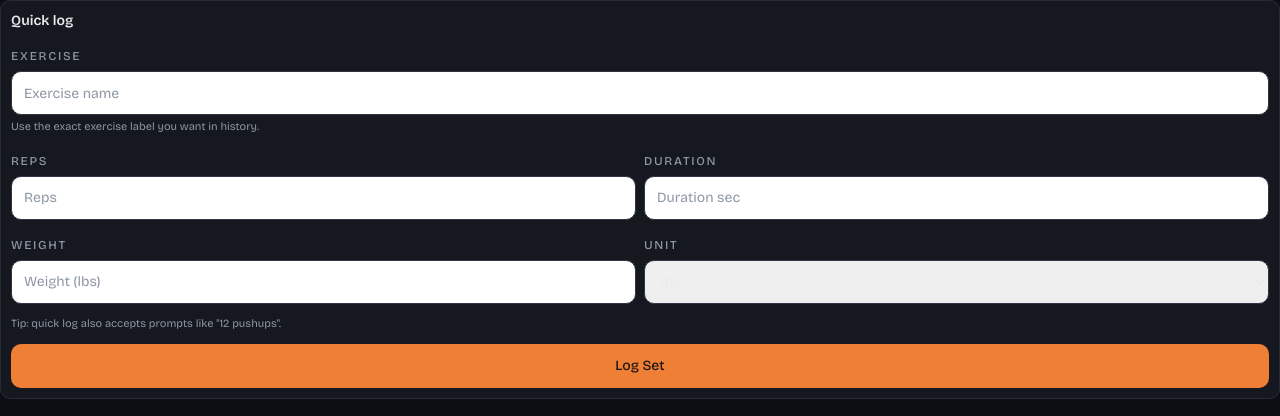
Test: QuickLogFormBlock › shows validation error when exercise is missing
The image size is (1280, 416).
Type "10" into the field labelled "Reps" at (324, 198), box [11,176,636,220]
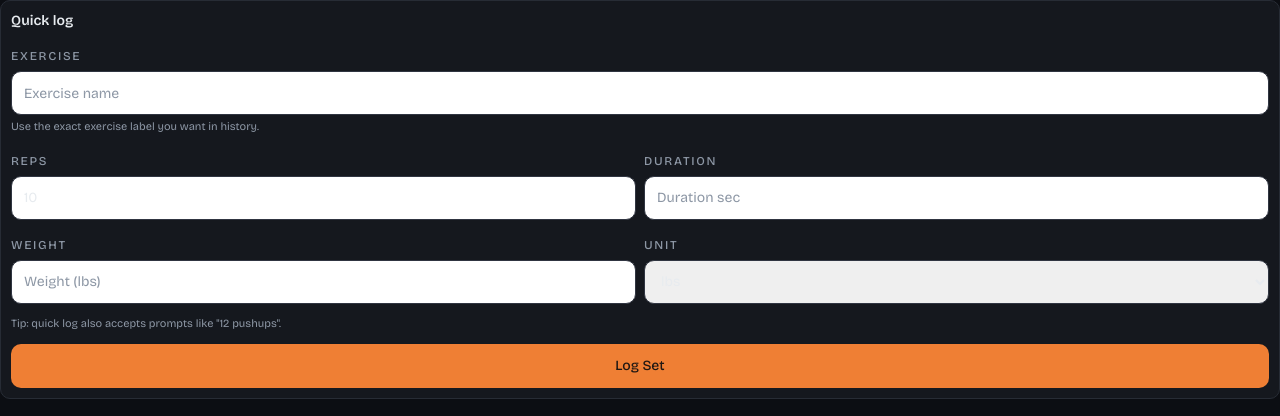
Click the button "Log Set" at (640, 366), box [11,344,1269,388]
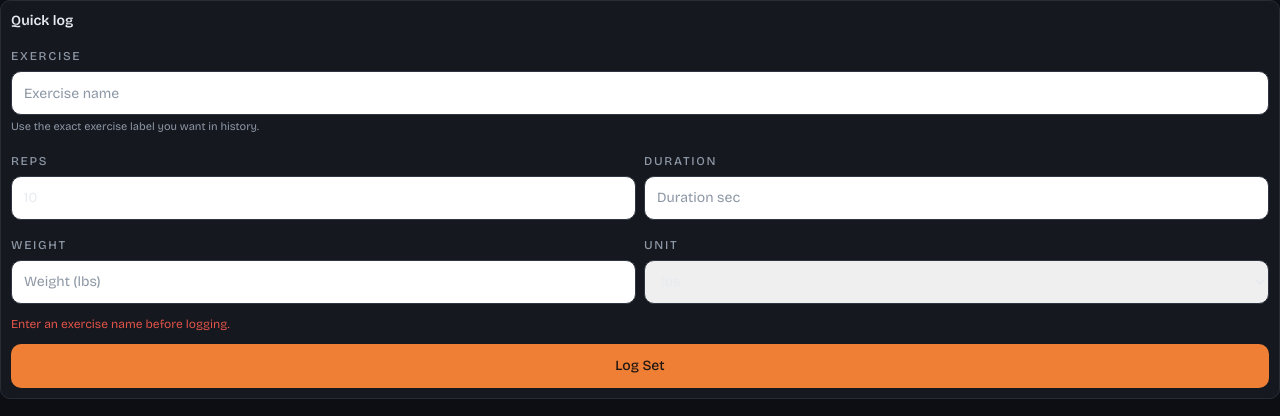
expect the text "Enter an exercise name before logging." is shown: met, box [11,316,230,330]
